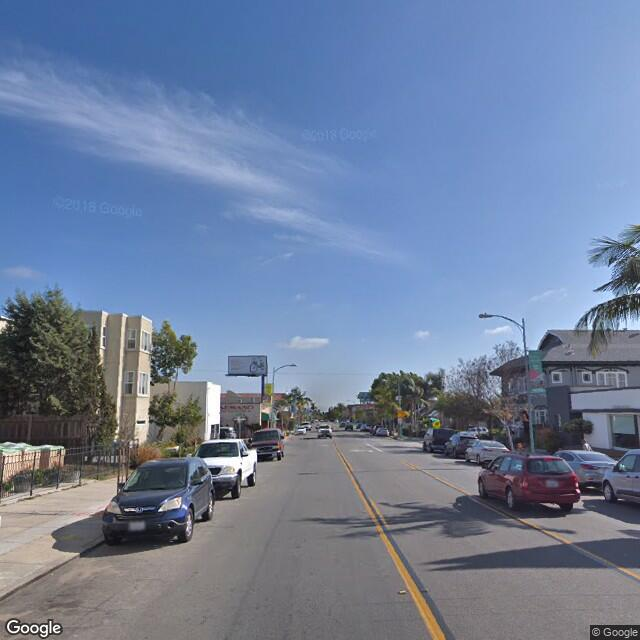road line: (403, 545, 461, 638), (358, 474, 404, 549)
window: (140, 325, 152, 356)
